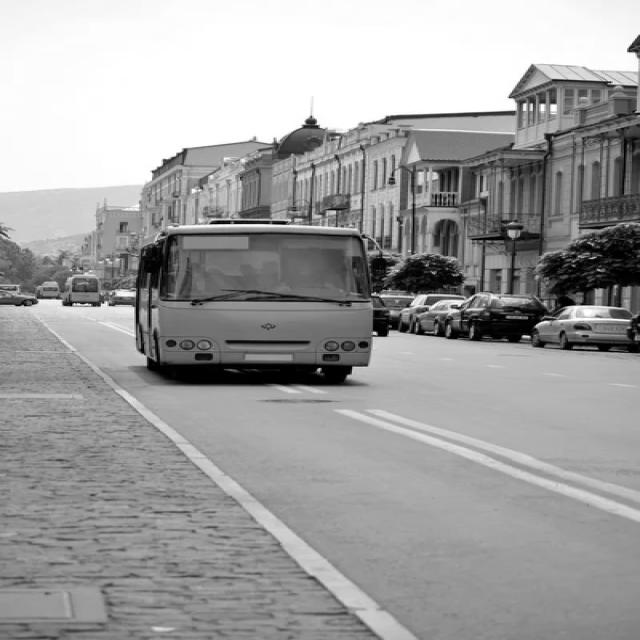Bus: (134, 218, 372, 384)
Car: (448, 294, 546, 342), (533, 306, 632, 351), (398, 294, 466, 332), (419, 300, 464, 336)
